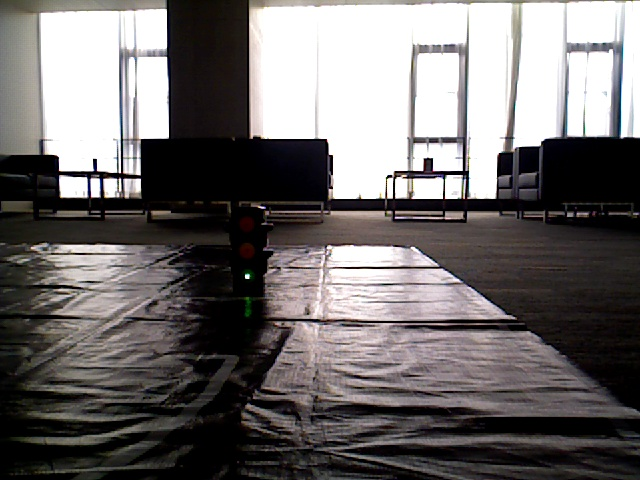green: (236, 209, 261, 290)
